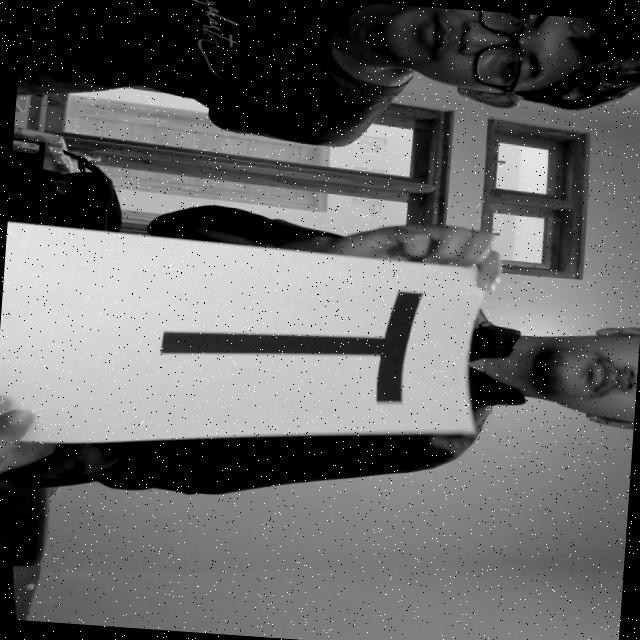t: (136, 267, 438, 418)
